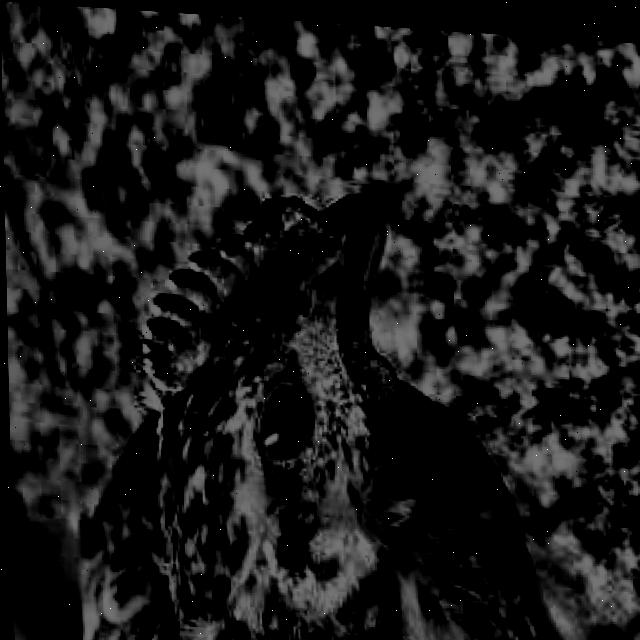Healthy: (248, 361, 330, 500)
